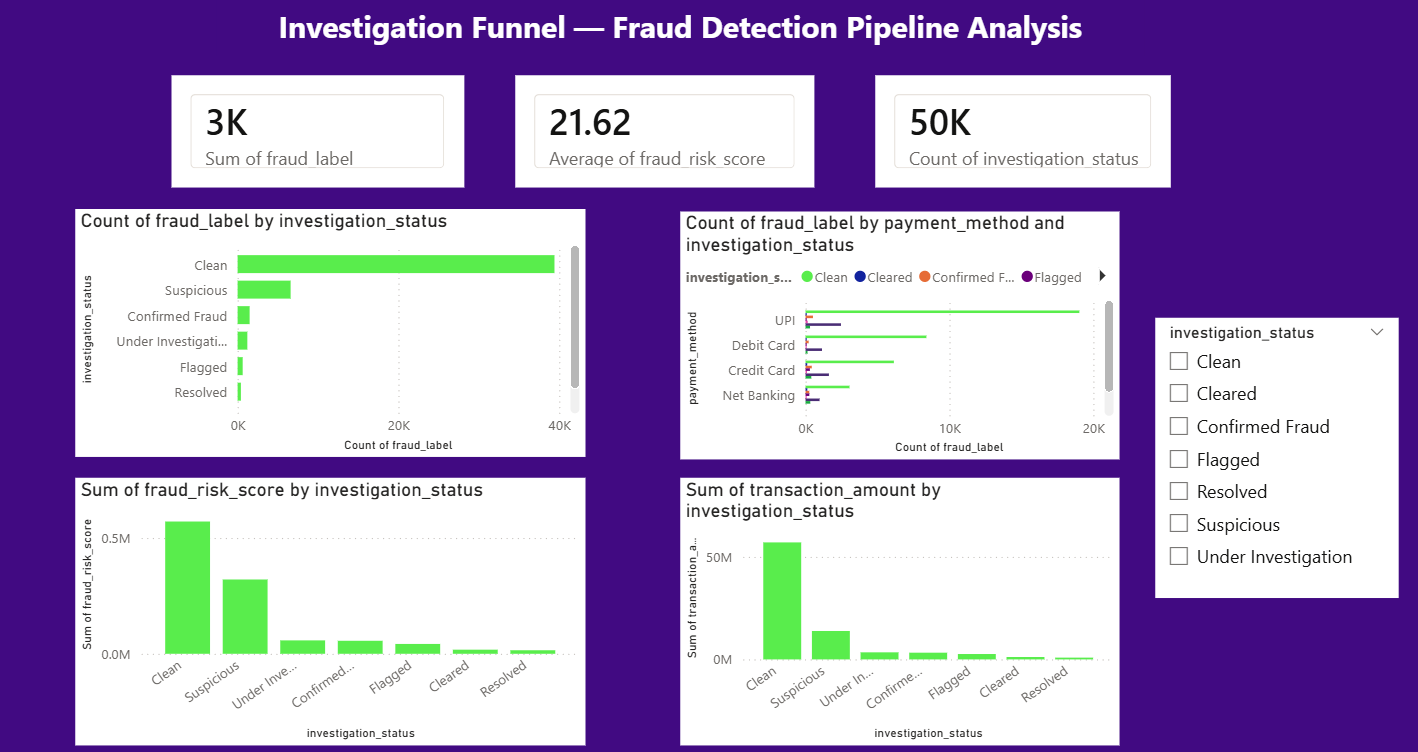

The dashboard page shown, as its layout file describes it:
{"tool":"powerbi","page":{"name":"Investigation Funnel","canvas":[1280,720],"ordinal":3},"visuals":[{"type":"textbox","box":[207.2,45.3,826.1,49.4],"z":0},{"type":"clusteredBarChart","fields":{"Category":["india_payments_clean.investigation_status"],"Y":["CountNonNull(india_payments_clean.fraud_label)"]},"box":[81,231.9,454.2,220.9],"z":1000},{"type":"clusteredBarChart","fields":{"Category":["india_payments_clean.payment_method"],"Series":["india_payments_clean.investigation_status"],"Y":["CountNonNull(india_payments_clean.fraud_label)"]},"box":[620.2,233.3,391.1,220.9],"z":2000},{"type":"clusteredColumnChart","fields":{"Category":["india_payments_clean.investigation_status"],"Y":["Sum(india_payments_clean.fraud_risk_score)"]},"box":[81,470.7,454.2,238.8],"z":3000},{"type":"clusteredColumnChart","fields":{"Category":["india_payments_clean.investigation_status"],"Y":["Sum(india_payments_clean.transaction_amount)"]},"box":[620.2,470.7,391.1,238.8],"z":4000},{"type":"cardVisual","fields":{"Data":["Sum(india_payments_clean.fraud_label)"]},"box":[167.4,112.5,260.7,100.2],"z":5000},{"type":"cardVisual","fields":{"Data":["Avg(india_payments_clean.fraud_risk_score)"]},"box":[473.4,112.5,266.2,100.2],"z":6000},{"type":"cardVisual","fields":{"Data":["CountNonNull(india_payments_clean.investigation_status)"]},"box":[793.1,112.5,263.5,100.2],"z":7000},{"type":"slicer","fields":{"Values":["india_payments_clean.investigation_status"]},"box":[1042.9,328,216.8,249.7],"z":8000}]}

Visuals, with their boxes in screenshot pixels (x1, y1, x2, y2):
textbox: 219/2/1135/57
clusteredBarChart - india_payments_clean.investigation_status x CountNonNull(india_payments_clean.fraud_label): 79/209/582/454
clusteredBarChart - india_payments_clean.payment_method x india_payments_clean.investigation_status: 677/211/1110/456
clusteredColumnChart - india_payments_clean.investigation_status x Sum(india_payments_clean.fraud_risk_score): 79/474/582/739
clusteredColumnChart - india_payments_clean.investigation_status x Sum(india_payments_clean.transaction_amount): 677/474/1110/739
cardVisual - Sum(india_payments_clean.fraud_label): 175/77/464/188
cardVisual - Avg(india_payments_clean.fraud_risk_score): 514/77/809/188
cardVisual - CountNonNull(india_payments_clean.investigation_status): 868/77/1161/188
slicer - india_payments_clean.investigation_status: 1146/316/1386/593
